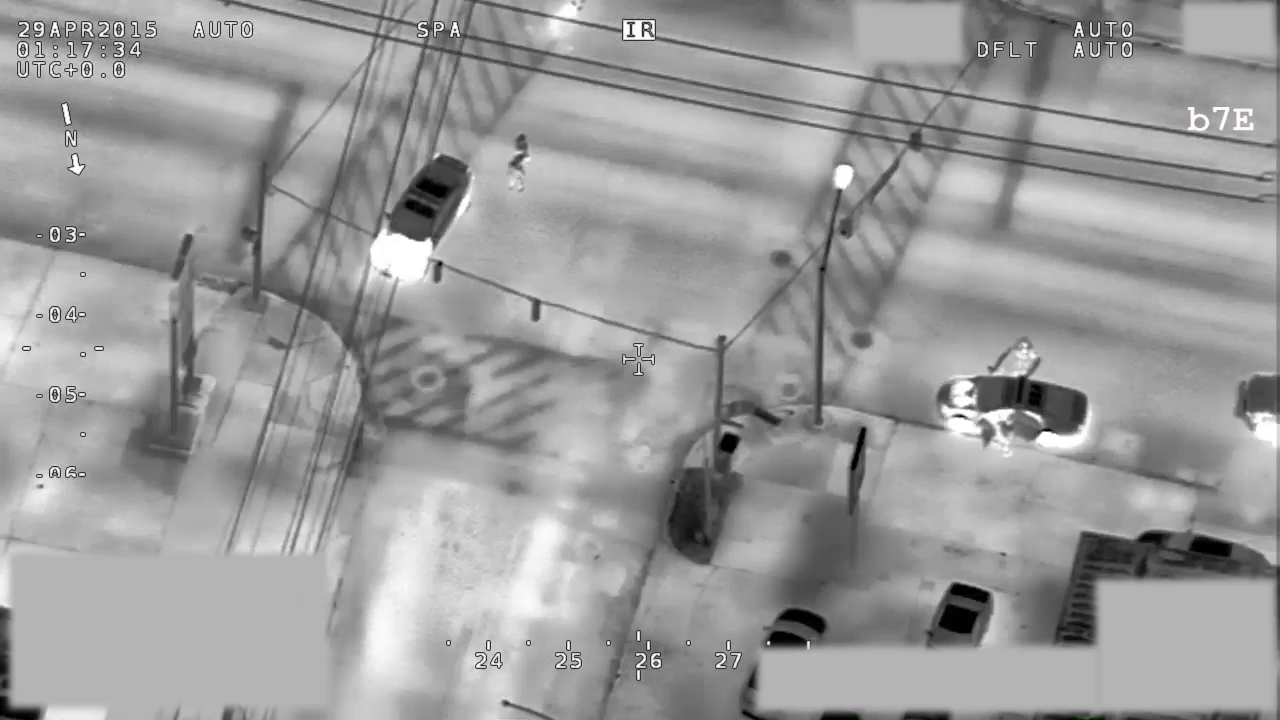vehicle: (935, 331, 1098, 451), (367, 151, 476, 286), (728, 597, 836, 716), (1130, 522, 1270, 569), (917, 578, 1001, 647), (1229, 363, 1280, 447)
